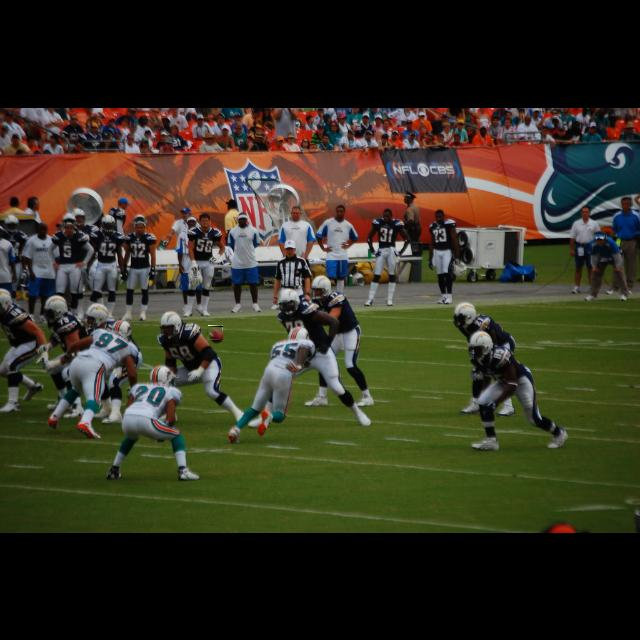Football: (207, 326, 223, 340)
